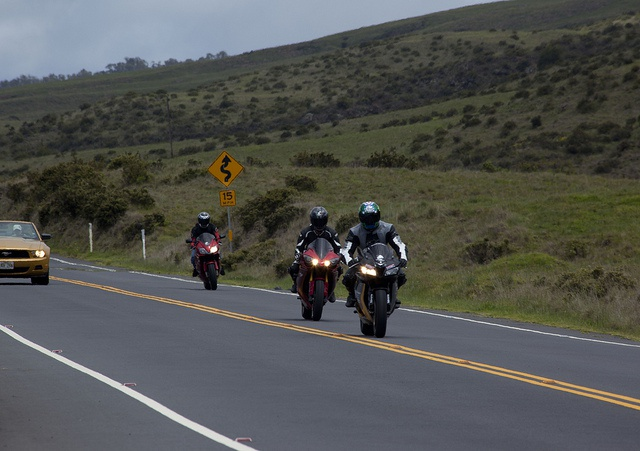non-vehicle: (350, 242, 401, 338), (294, 236, 340, 322), (186, 234, 225, 291)
